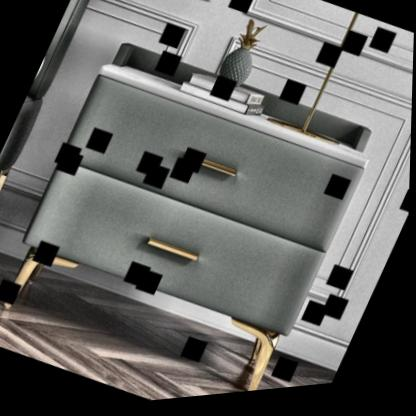Nightstand: (0, 40, 377, 416)
